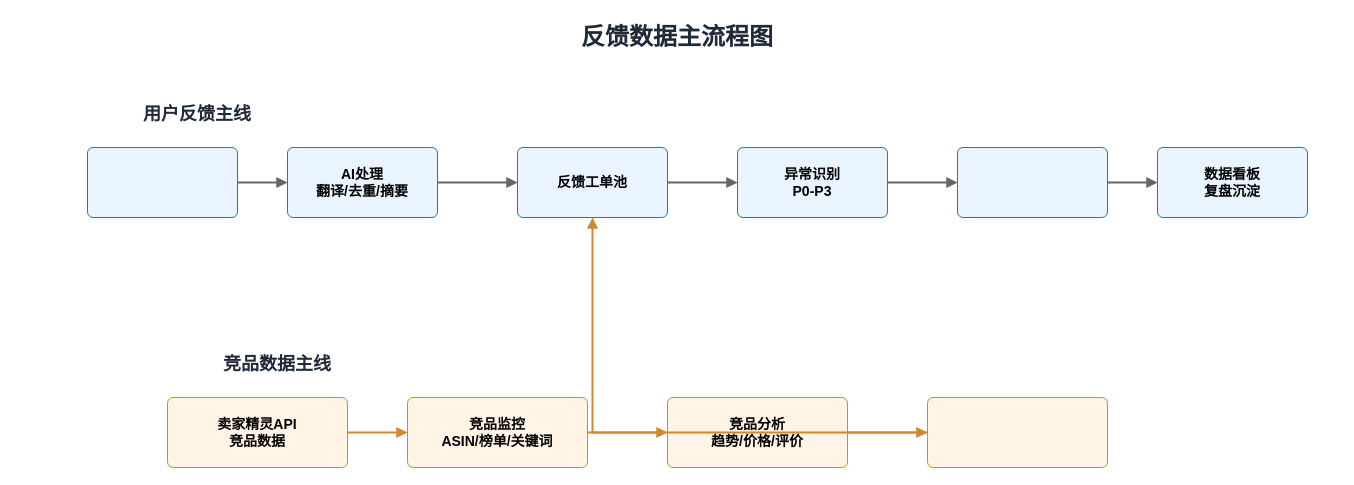
The diagram is 1354 pixels wide and 485 high, and some of its shapes have lost their labels. Here are the shapes that lost their labels. From the top down, the box of each, then its label:
(86, 146, 238, 218): 反馈采集
(956, 146, 1108, 218): 处理闭环 或转需求池
(926, 396, 1108, 468): 市场机会 竞品异常提醒
